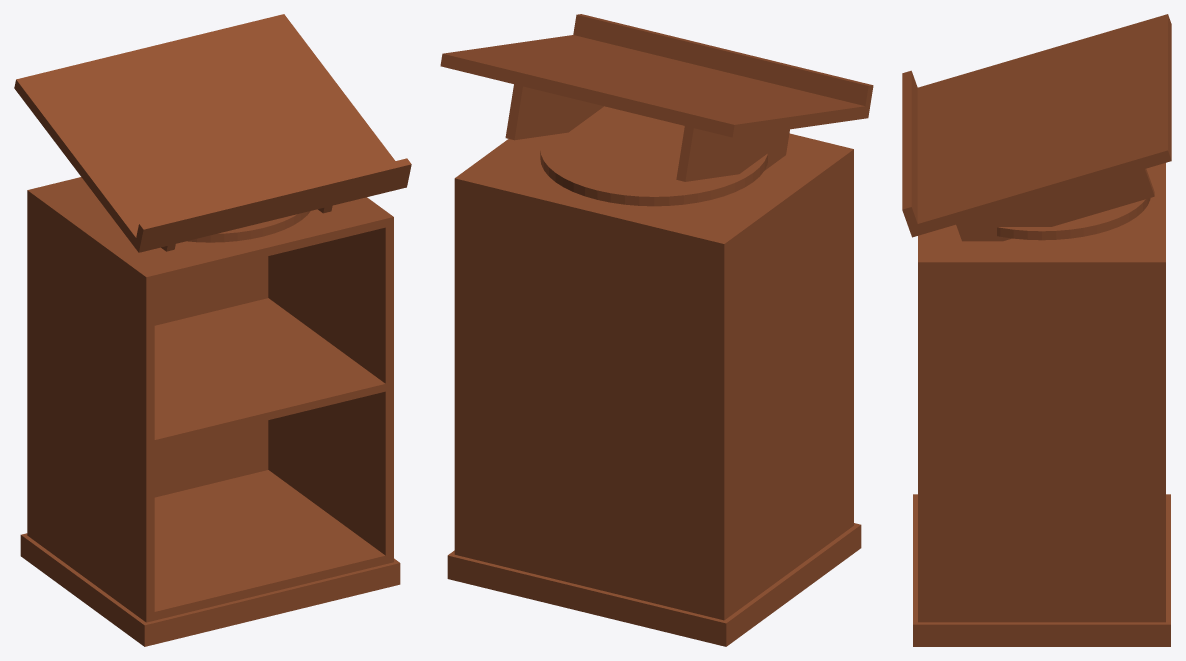
The model's file is 083_dictionary_atlas_stand.glb.
The picture shows the model from 3 angles, left to right: view 1: azimuth 30°, elevation 25°; view 2: azimuth 150°, elevation 25°; view 3: azimuth 270°, elevation 25°; orthographic projection. The views are drawn at different scales.
Parts seen in each view (by area): view 1: 009_sloped_book_rest, 000_carcass_side_l, 001_carcass_side_r, 003_carcass_bottom, 006_shelf, 004_carcass_back_panel, 002_carcass_top, 005_plinth, 010_book_ledge, 008_turntable; view 2: 004_carcass_back_panel, 000_carcass_side_l, 009_sloped_book_rest, 002_carcass_top, 008_turntable, 005_plinth, 010_book_ledge, 011_book_rest_bracket, 001_carcass_side_r, 012_book_rest_bracket; view 3: 001_carcass_side_r, 009_sloped_book_rest, 002_carcass_top, 005_plinth, 012_book_rest_bracket, 008_turntable, 010_book_ledge.
Part boxes in pixels (x1,y1,x2,y2): 009_sloped_book_rest: [14, 14, 408, 252]; 000_carcass_side_l: [27, 188, 154, 622]; 001_carcass_side_r: [268, 197, 393, 563]; 003_carcass_bottom: [154, 470, 385, 620]; 006_shelf: [154, 298, 385, 447]; 004_carcass_back_panel: [154, 256, 268, 497]; 002_carcass_top: [27, 177, 393, 285]; 005_plinth: [20, 533, 400, 646]; 010_book_ledge: [136, 158, 411, 243]; 008_turntable: [187, 211, 310, 242]; 004_carcass_back_panel: [463, 190, 715, 617]; 000_carcass_side_l: [715, 147, 853, 620]; 009_sloped_book_rest: [440, 35, 870, 137]; 002_carcass_top: [455, 133, 853, 253]; 008_turntable: [540, 106, 767, 206]; 005_plinth: [447, 523, 861, 646]; 010_book_ledge: [573, 14, 873, 106]; 011_book_rest_bracket: [676, 126, 789, 181]; 001_carcass_side_r: [454, 139, 518, 556]; 012_book_rest_bracket: [505, 84, 603, 140]; 001_carcass_side_r: [918, 258, 1165, 622]; 009_sloped_book_rest: [908, 14, 1171, 237]; 002_carcass_top: [918, 163, 1165, 271]; 005_plinth: [913, 494, 1170, 646]; 012_book_rest_bracket: [956, 168, 1154, 241]; 008_turntable: [997, 178, 1150, 240]; 010_book_ledge: [902, 70, 917, 226].
Size of the model in its own units: 0.65 by 1.11 by 0.5432.
